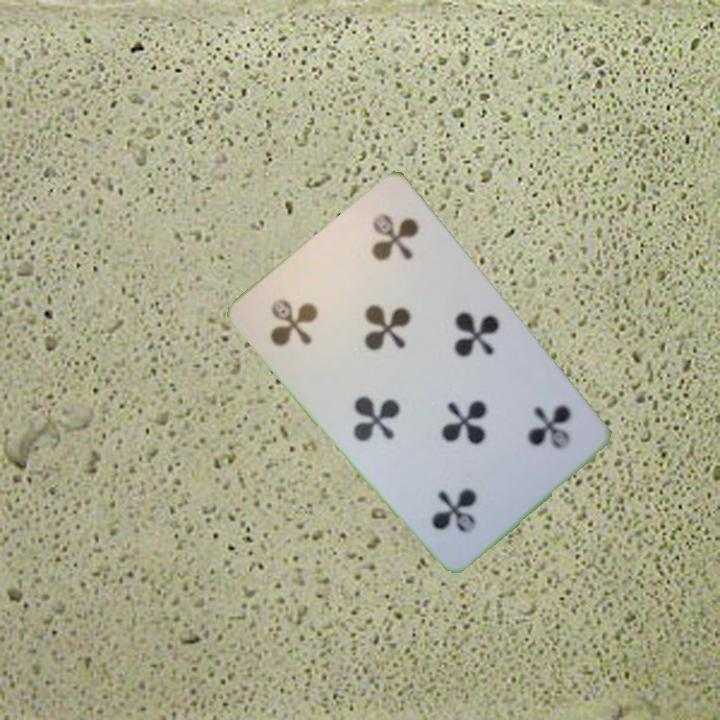c_8.png: (245, 250, 375, 378), (467, 375, 596, 502)
